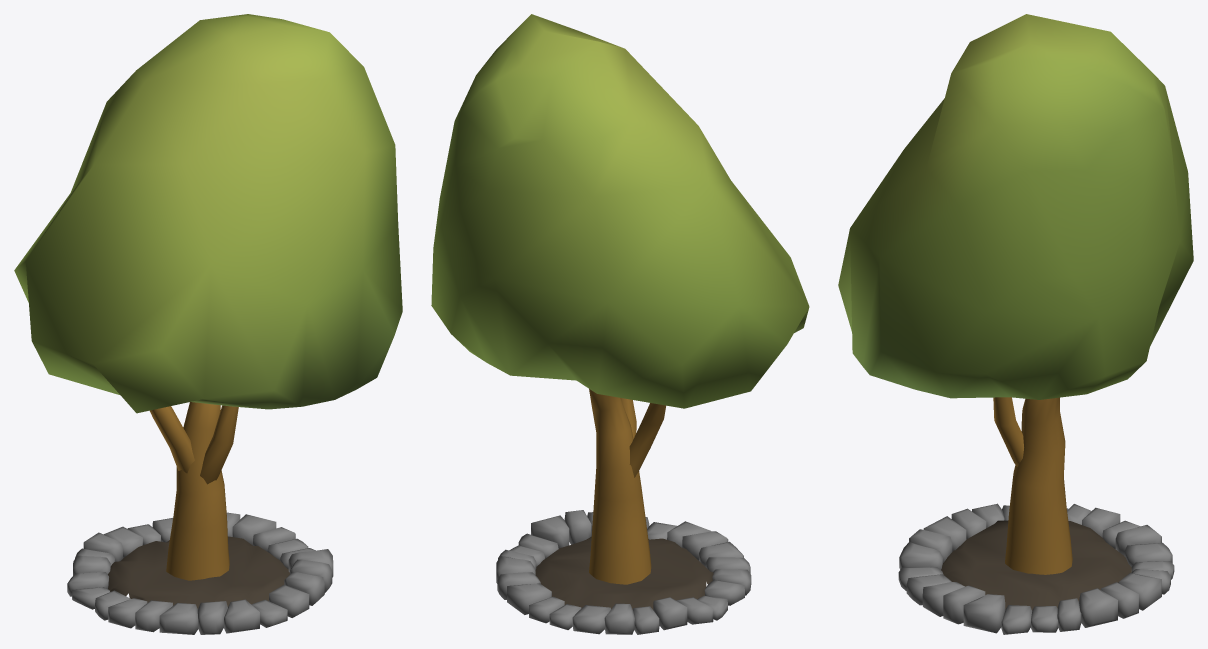
3 renders of one model, left to right at view 1: azimuth 30°, elevation 25°; view 2: azimuth 150°, elevation 25°; view 3: azimuth 270°, elevation 25°, orthographic. The views are drawn at different scales.
Visible parts, largest first — view 1: Vert.001; view 2: Vert.001; view 3: Vert.001.
Part boxes in pixels (x1,y1,x2,y2): Vert.001: [14, 14, 402, 634]; Vert.001: [431, 14, 809, 634]; Vert.001: [838, 14, 1193, 634].
Size of the model in its own units: 234 by 352 by 196.
